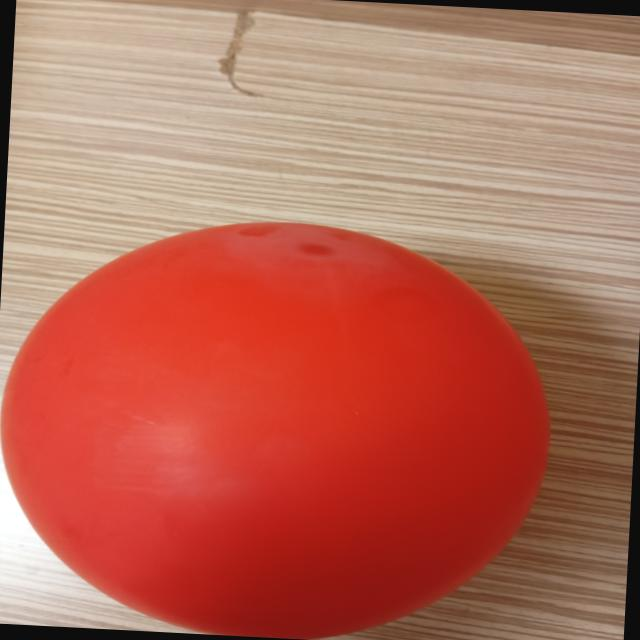balloon: (0, 223, 549, 640)
